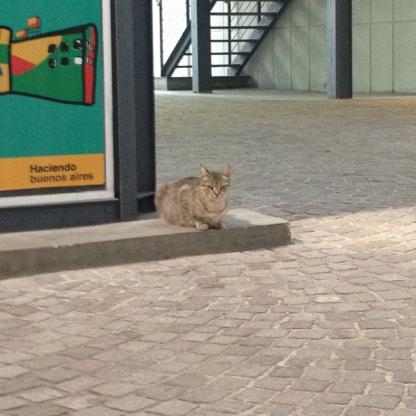Target: (155, 162, 237, 234)
